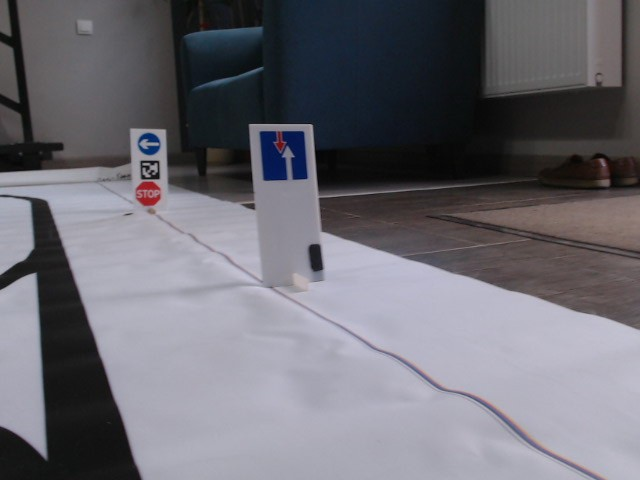Stop: (133, 180, 162, 206)
priority_movement: (258, 130, 308, 183)
